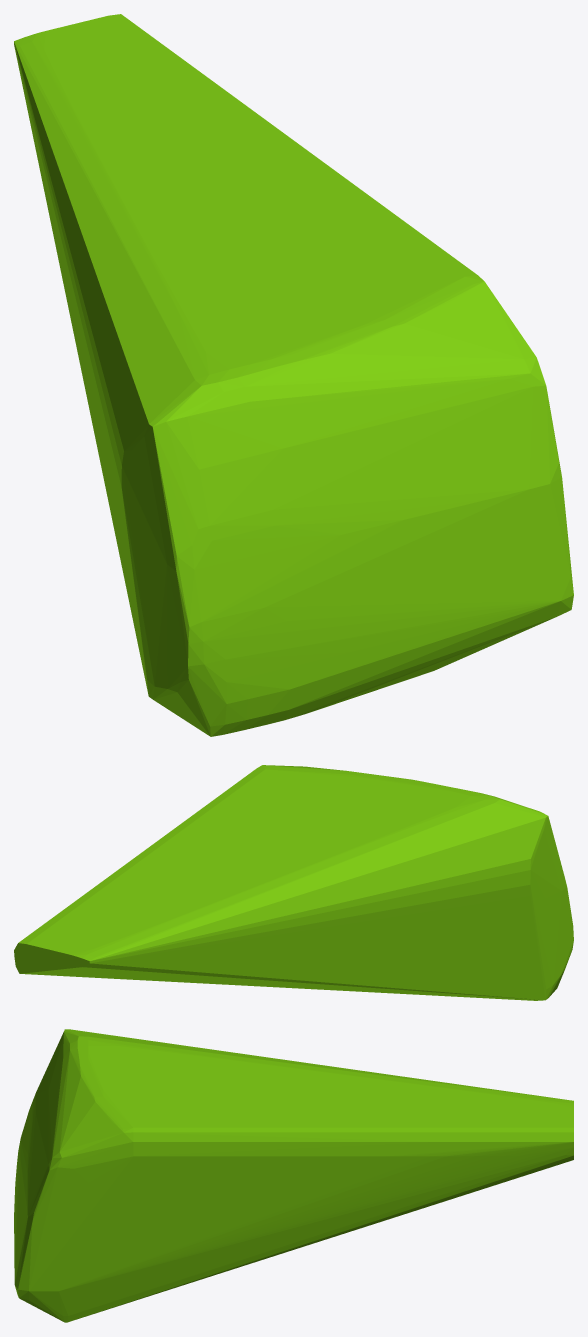
The model's file is right-hip-roll-0_part_4.obj.
The picture shows the model from 3 angles, top to bottom: view 1: azimuth 30°, elevation 25°; view 2: azimuth 150°, elevation 25°; view 3: azimuth 270°, elevation 25°; orthographic projection. The views are drawn at different scales.
Bounding box in the file's own units: 0.0264 × 0.0199 × 0.0528.
